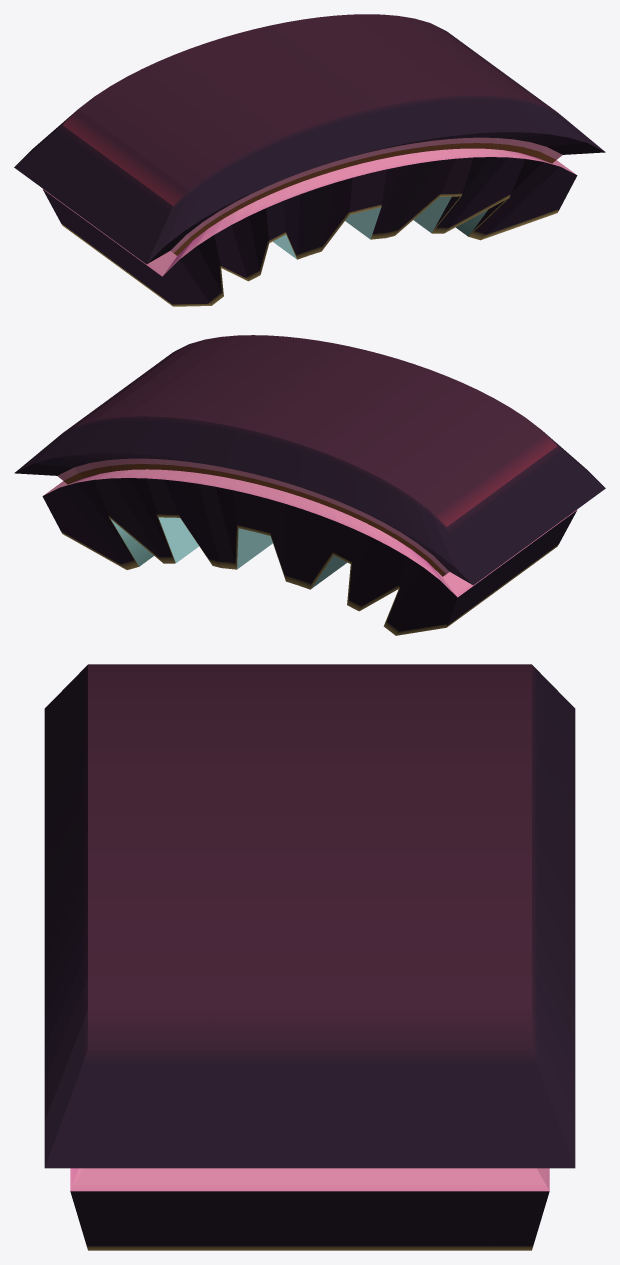
3 views of the same model, one above another, from view 1: azimuth 30°, elevation 25°; view 2: azimuth 150°, elevation 25°; view 3: azimuth 270°, elevation 25° (orthographic). The views are drawn at different scales.
Parts seen in each view (by area): view 1: Paddle; view 2: Paddle; view 3: Paddle.
Boxes of the visible parts, x1,y1,x2,y2 form: Paddle: (14, 14, 605, 306); Paddle: (14, 335, 605, 635); Paddle: (44, 664, 575, 1250).
Size of the model in its own units: 4.78 by 1.76 by 2.39.
